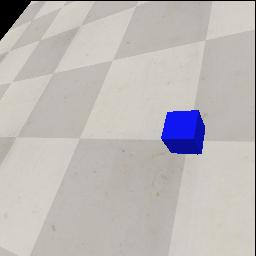box: (161, 110, 205, 154)
